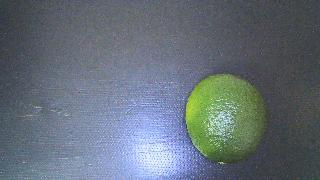EXPORTACION: (185, 74, 267, 164)
